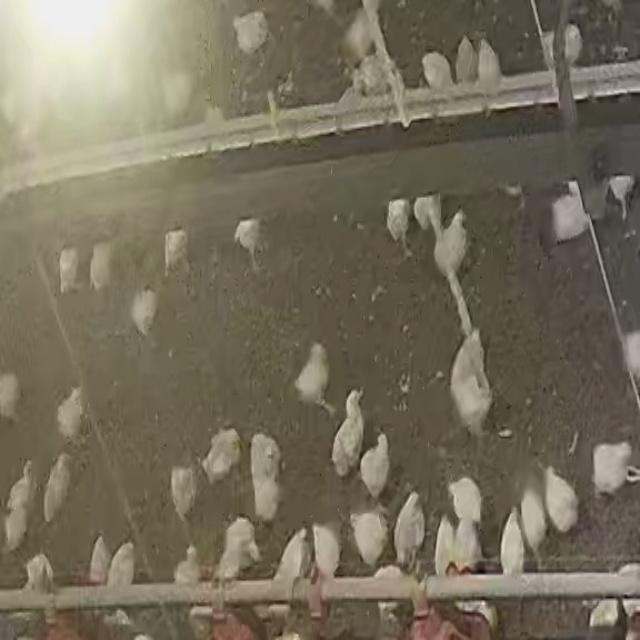chicken: (448, 332, 493, 439), (293, 338, 337, 418), (430, 208, 475, 282), (249, 432, 284, 522), (331, 388, 366, 477), (4, 459, 36, 550), (549, 181, 592, 245), (543, 462, 580, 536), (394, 490, 428, 569), (218, 517, 261, 578), (202, 427, 243, 488), (350, 508, 389, 568), (359, 430, 391, 501), (44, 454, 74, 524), (501, 504, 529, 578), (523, 488, 550, 558), (233, 219, 266, 273), (449, 475, 483, 527), (313, 522, 344, 578), (232, 10, 269, 56), (170, 464, 198, 524), (56, 386, 85, 443), (386, 198, 412, 256), (130, 288, 158, 338), (164, 229, 191, 279), (58, 245, 83, 296), (89, 242, 114, 292), (412, 194, 441, 236), (0, 372, 23, 423)
